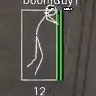hacks_1: (21, 1, 77, 95)
